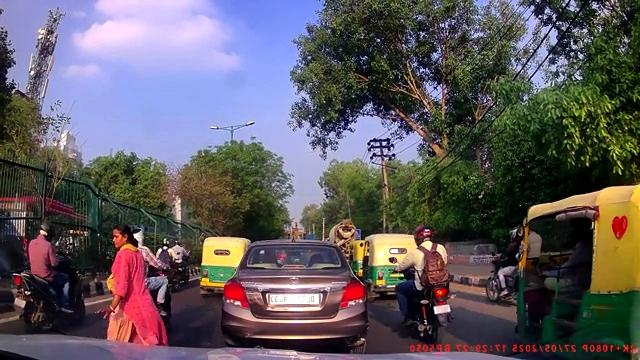motorcycle_with_helmet: (12, 223, 86, 333), (392, 222, 457, 343)
